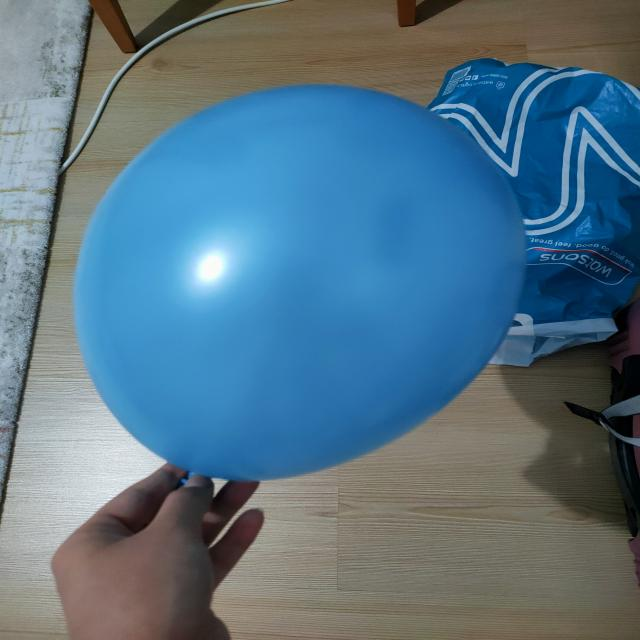blue: (75, 83, 526, 481)
